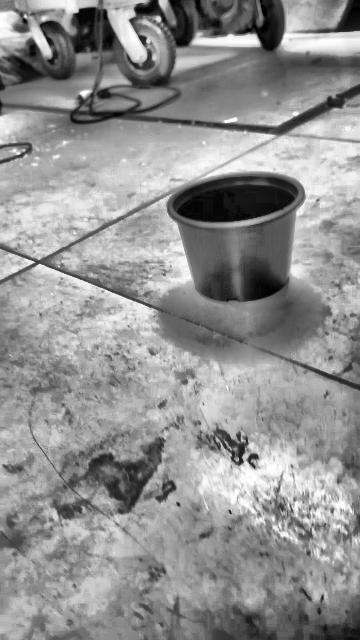pot: (167, 172, 305, 301)
